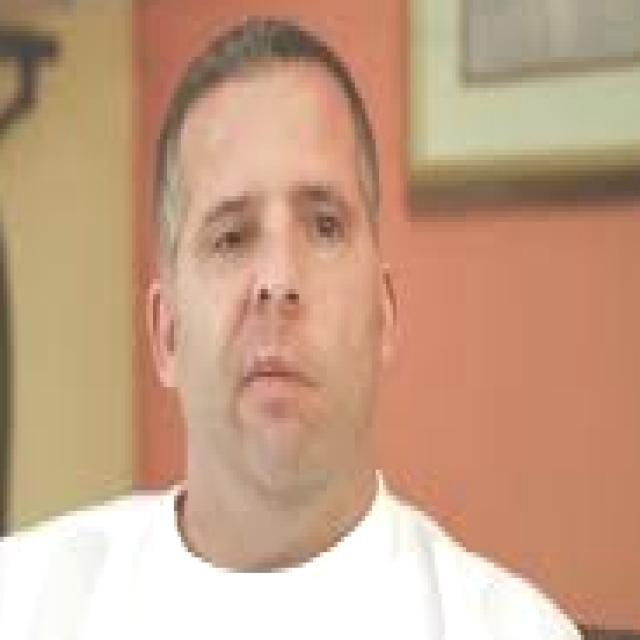stroke_face: (160, 32, 418, 506)
